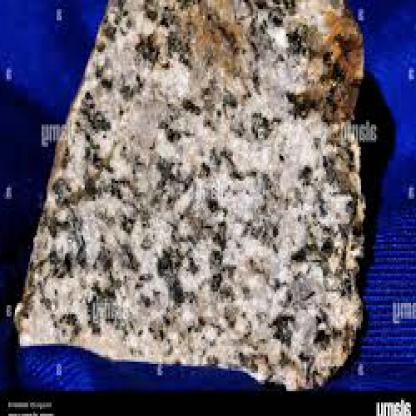Igneous_Diorite: (8, 0, 376, 385)
